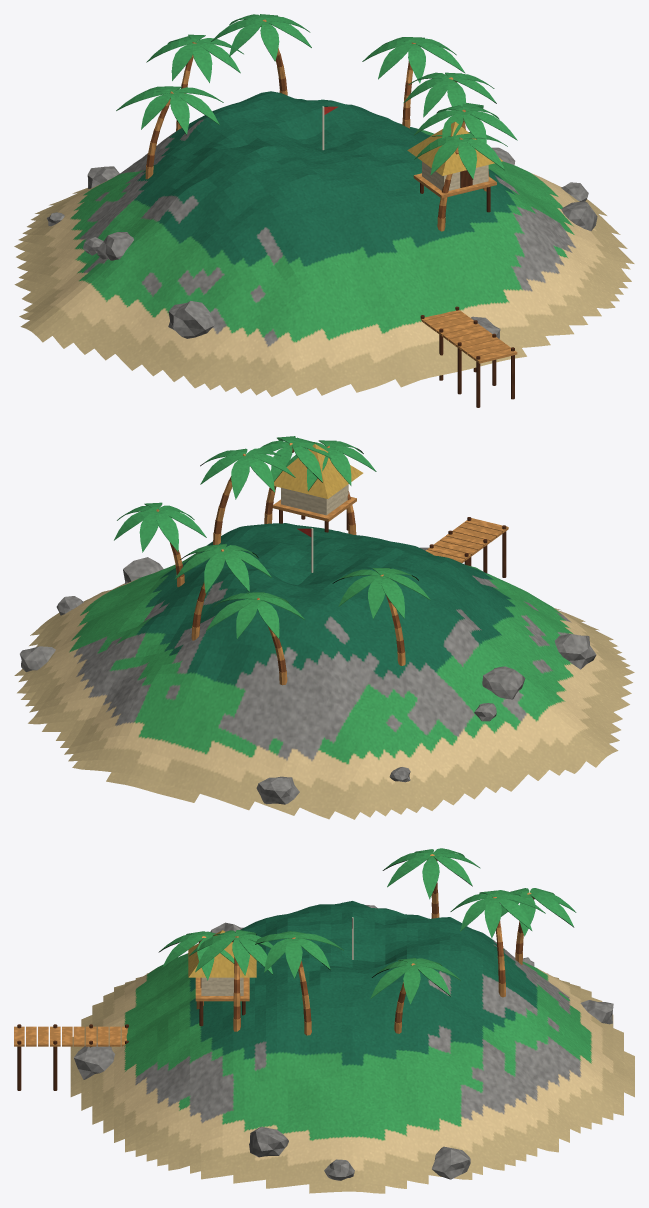
File: turtle_cay.glb
3 views of the same model, one above another, from view 1: azimuth 30°, elevation 25°; view 2: azimuth 150°, elevation 25°; view 3: azimuth 270°, elevation 25° (orthographic). The views are drawn at different scales.
Parts seen in each view (by area): view 1: turtle_cay_mesh; view 2: turtle_cay_mesh; view 3: turtle_cay_mesh.
Boxes of the visible parts, <box> form: turtle_cay_mesh: <box>14,14,634,407</box>; turtle_cay_mesh: <box>14,436,634,819</box>; turtle_cay_mesh: <box>14,848,634,1193</box>.
Size of the model in its own units: 32.06 by 11.03 by 32.19.
1 material, 1 textured.
